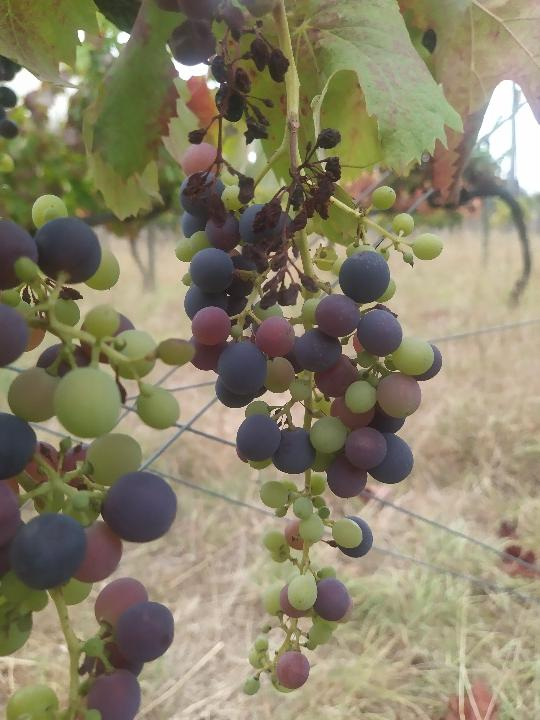grape: (173, 130, 444, 697), (158, 2, 292, 229)
